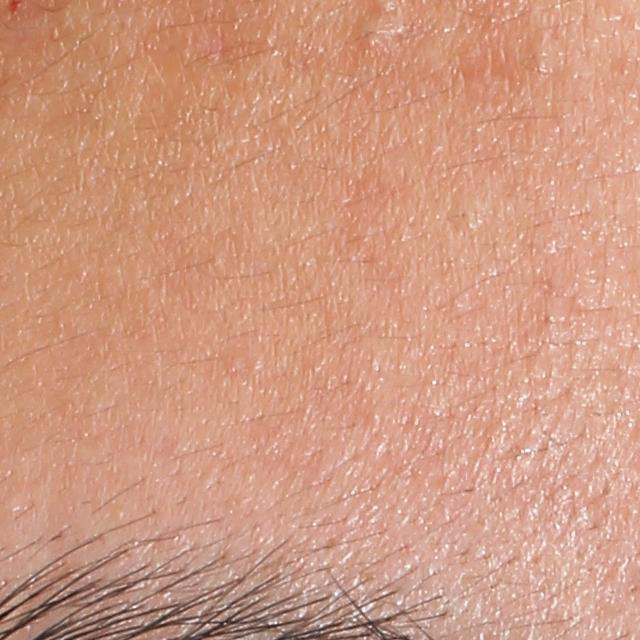comedo: (352, 10, 391, 51), (530, 28, 561, 77), (447, 199, 487, 233)
